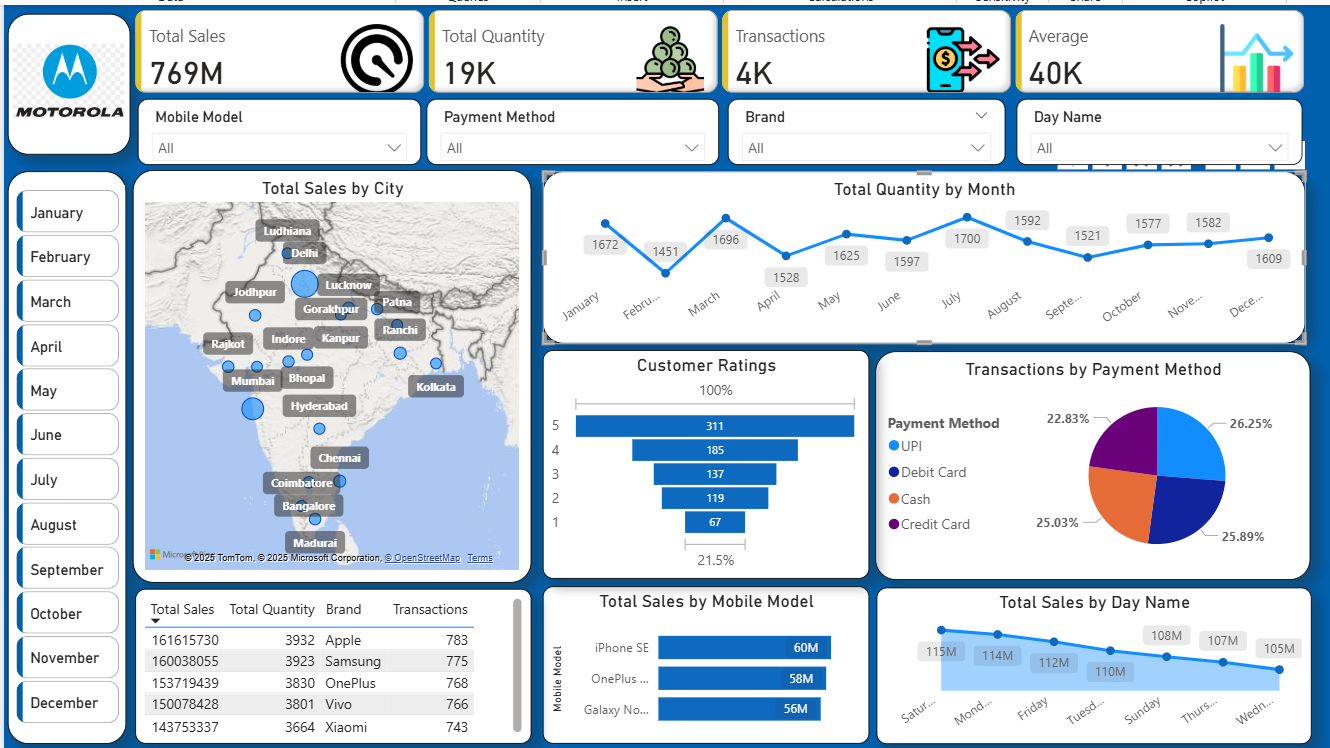

The dashboard page shown, as its layout file describes it:
{"tool":"powerbi","page":{"name":"Page 1","canvas":[1280,720],"ordinal":0},"visuals":[{"type":"shape","box":[3.6,8.4,118.2,136.3],"z":0},{"type":"image","box":[4.1,23.3,118,100.2],"z":1000},{"type":"shape","box":[3.6,160.5,114.6,552.5],"z":2000},{"type":"advancedSlicerVisual","fields":{"Values":["Sales_Data.Date.Variation.Date Hierarchy.Month"]},"box":[7.2,173.7,109.8,524.8],"z":3000},{"type":"cardVisual","fields":{"Data":["Sales_Data.Total Sales","Sales_Data.Total Quantity","Sales_Data.Transactions","Sales_Data.Average"]},"box":[121.9,0,1140.1,90.5],"z":4000},{"type":"map","fields":{"Category":["Sales_Data.City"],"Size":["Sales_Data.Total Sales"]},"box":[124.3,159.3,384.9,398.1],"z":5000},{"type":"lineChart","fields":{"Y":["Sales_Data.Total Quantity"],"Category":["Sales_Data.Date.Variation.Date Hierarchy.Month","Sales_Data.Date.Variation.Date Hierarchy.Day"]},"box":[520,160.5,735.9,166.5],"z":6000},{"type":"clusteredBarChart","fields":{"Category":["Sales_Data.Mobile Model"],"Y":["Sales_Data.Total Sales"]},"box":[520,561,314.9,152],"z":7000},{"type":"pieChart","fields":{"Category":["Sales_Data.Payment Method"],"Y":["Sales_Data.Transactions"]},"box":[840.9,334.2,419.8,220.8],"z":8000},{"type":"funnel","title":" Customer Ratings","fields":{"Category":["Sales_Data.Customer Ratings"],"Y":["CountNonNull(Sales_Data.Customer Ratings)"]},"box":[520,333,314.9,220.8],"z":9000},{"type":"areaChart","fields":{"Category":["Sales_Data.Day Name"],"Y":["Sales_Data.Total Sales"]},"box":[842.1,562.2,419.8,150.8],"z":10000},{"type":"tableEx","fields":{"Values":["Sales_Data.Total Sales","Sales_Data.Total Quantity","Sales_Data.Brand","Sales_Data.Transactions"]},"box":[126.7,563.4,382.4,149.6],"z":11000},{"type":"slicer","fields":{"Values":["Sales_Data.Mobile Model"]},"box":[129.1,90.5,273.9,63.9],"z":12000},{"type":"slicer","fields":{"Values":["Sales_Data.Payment Method"]},"box":[407.8,90.5,282.3,63.9],"z":13000},{"type":"slicer","fields":{"Values":["Sales_Data.Brand"]},"box":[698.5,90.5,267.8,63.9],"z":14000},{"type":"slicer","fields":{"Values":["Sales_Data.Day Name"]},"box":[977.2,90.5,276.3,63.9],"z":15000}]}

Visuals, with their boxes in screenshot pixels (x1, y1, x2, y2), scaled from the page's 1280x720 canvas onto the 1330x748 screenshot:
shape: 4/9/127/150
image: 4/24/127/128
shape: 4/167/123/741
advancedSlicerVisual - Sales_Data.Date.Variation.Date Hierarchy.Month: 7/180/122/726
cardVisual - Sales_Data.Total Sales x Sales_Data.Total Quantity: 127/0/1311/94
map - Sales_Data.City x Sales_Data.Total Sales: 129/165/529/579
lineChart - Sales_Data.Total Quantity x Sales_Data.Date.Variation.Date Hierarchy.Month: 540/167/1305/340
clusteredBarChart - Sales_Data.Mobile Model x Sales_Data.Total Sales: 540/583/868/741
pieChart - Sales_Data.Payment Method x Sales_Data.Transactions: 874/347/1310/577
" Customer Ratings" funnel: 540/346/868/575
areaChart - Sales_Data.Day Name x Sales_Data.Total Sales: 875/584/1311/741
tableEx - Sales_Data.Total Sales x Sales_Data.Total Quantity: 132/585/529/741
slicer - Sales_Data.Mobile Model: 134/94/419/160
slicer - Sales_Data.Payment Method: 424/94/717/160
slicer - Sales_Data.Brand: 726/94/1004/160
slicer - Sales_Data.Day Name: 1015/94/1302/160
